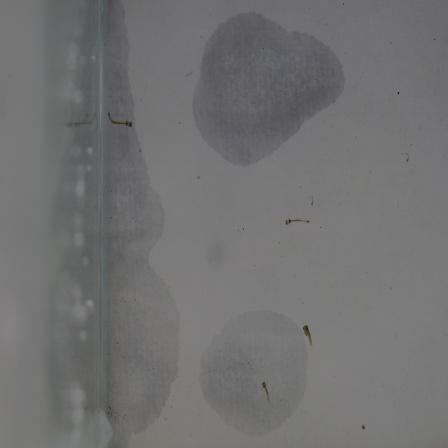Jentik-Nyamuk: (104, 109, 139, 135), (259, 376, 277, 413), (280, 213, 315, 230), (301, 319, 317, 349)
